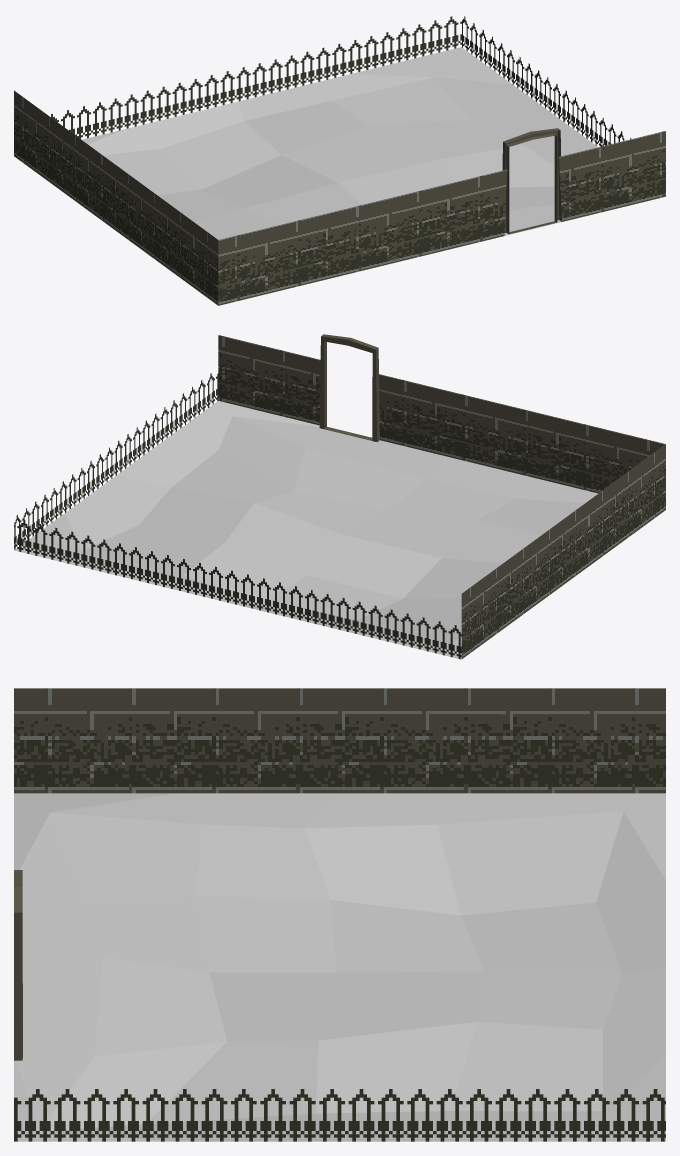
File: GraveYard.obj
3 renders of one model, top to bottom at view 1: azimuth 30°, elevation 25°; view 2: azimuth 150°, elevation 25°; view 3: azimuth 270°, elevation 25°, orthographic. The views are drawn at different scales.
Parts seen in each view (by area): view 1: GraveYard_Plane.007; view 2: GraveYard_Plane.007; view 3: GraveYard_Plane.007.
Boxes of the visible parts, left/top/right/bottom form: GraveYard_Plane.007: left=14, top=16, right=665, bottom=305; GraveYard_Plane.007: left=14, top=334, right=665, bottom=659; GraveYard_Plane.007: left=14, top=688, right=665, bottom=1141.
Bounding box in the file's own units: 10.66 × 2.54 × 8.44.
